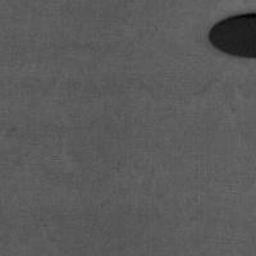Punching: (209, 13, 256, 59)
